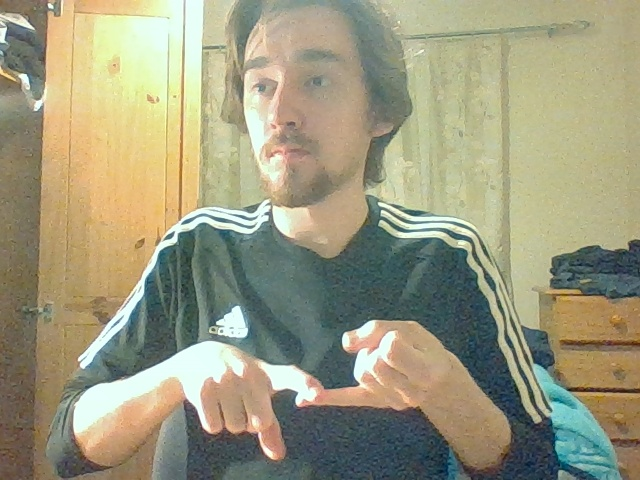step: (192, 320, 432, 460)
